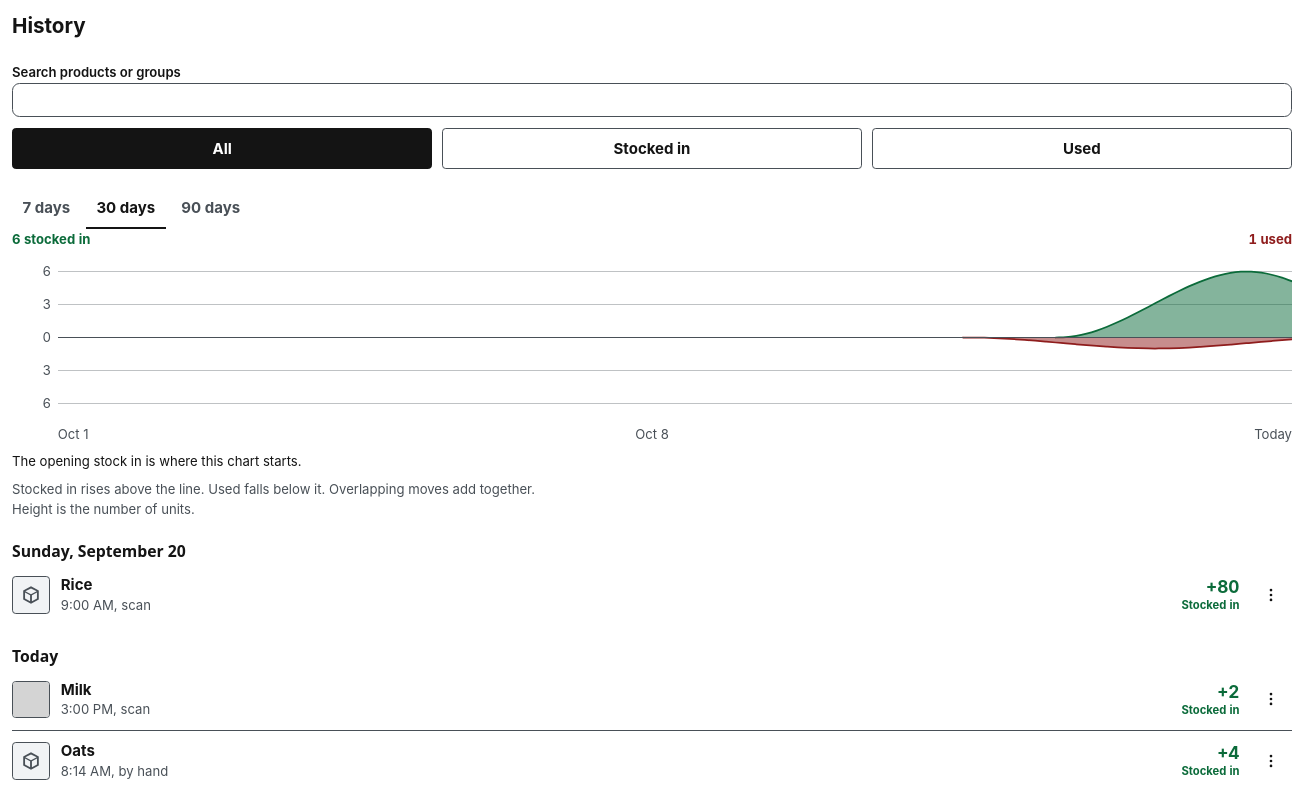
Test: LedgerPage › starts the chart at the opening stock in when that day is inside the range
expect the text "The opening stock in is where this chart starts." is shown: met, box [12,453,302,469]
expect the text "6 stocked in" is shown: met, box [12,231,90,248]
What coordinates should you click on to do the following:
click the button "7 days"
I would click on:
 (46, 209)
Its box is [12,188,81,229].
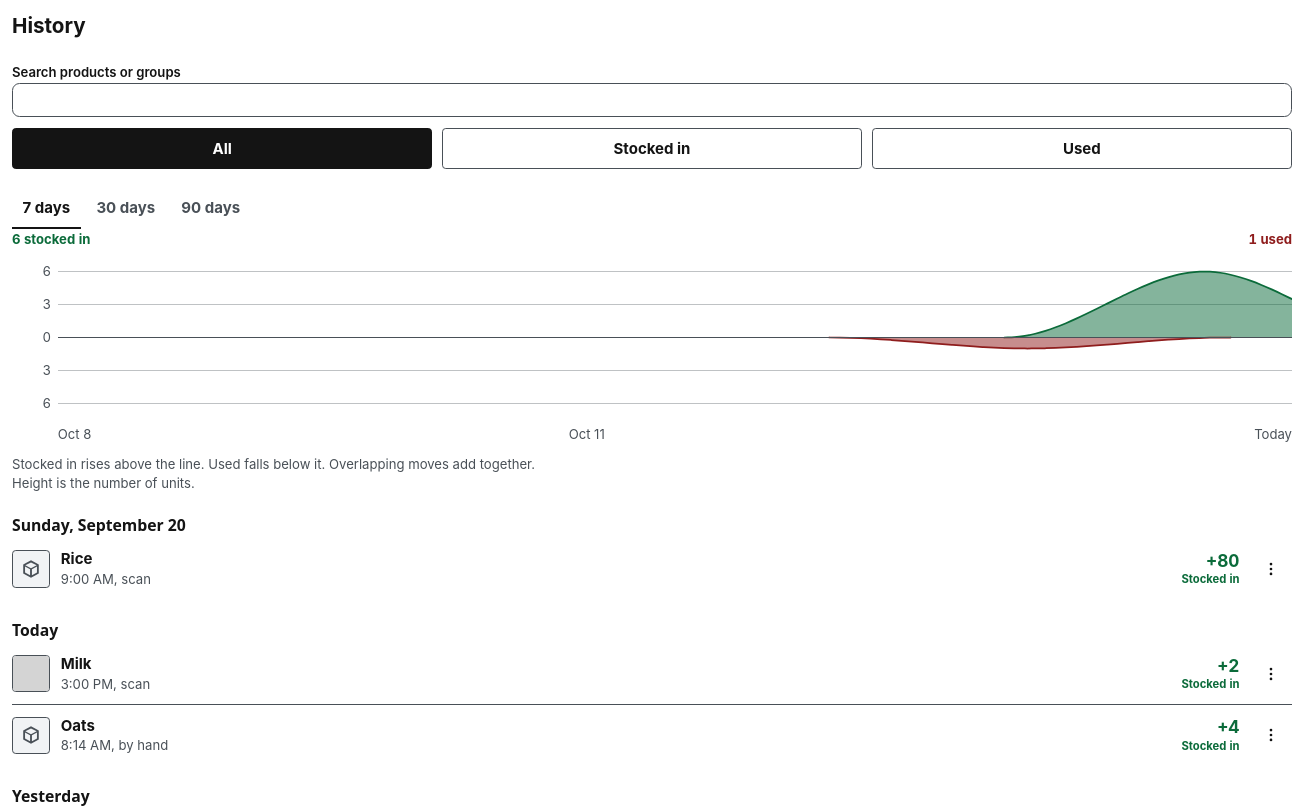
expect the picture named "Last 7 days. 6 units stocked in. 1 unit used." is shown: met, box [58,255,1292,420]
expect the text "The opening stock in is where this chart starts." is gone: met
